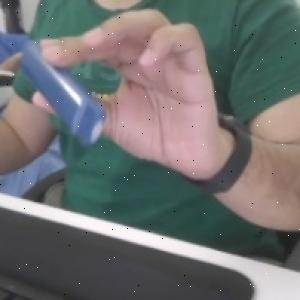Diamond-E-Ciggirate: (18, 37, 108, 150)
